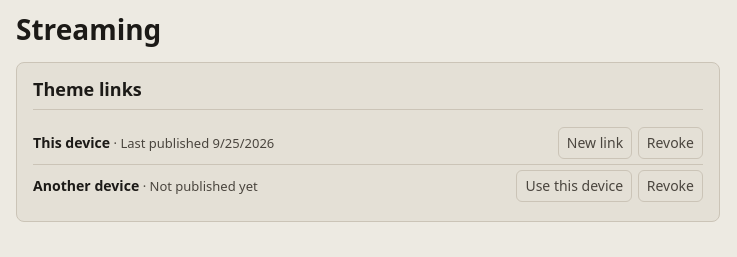
Test: the account's theme links › claims nothing that did not happen: a refused new link and a failed revoke say so plainly
Click the button "New link".
click(595, 143)  # box x1=558 y1=127 x2=632 y2=159
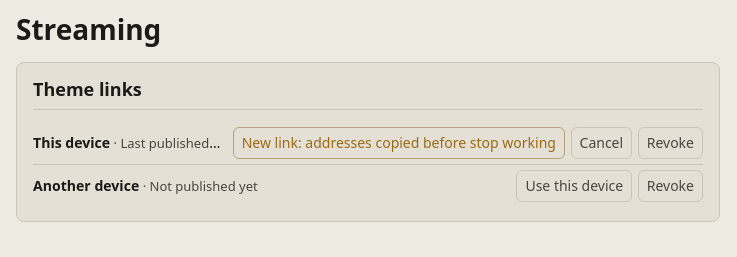
Click the button "New link: addresses copied before stop working".
click(399, 143)  # box x1=233 y1=127 x2=565 y2=159
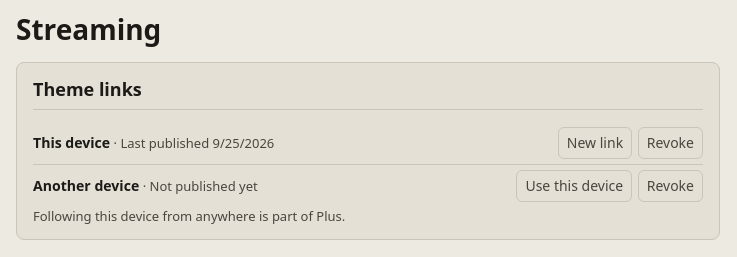
expect the text "Following this device from anywhere is part of Plus." is shown: met, box x1=33 y1=207 x2=345 y2=225
Click the button "Revoke" in the row of "Last published 9/25/2026".
click(670, 143)  # box x1=638 y1=127 x2=703 y2=159
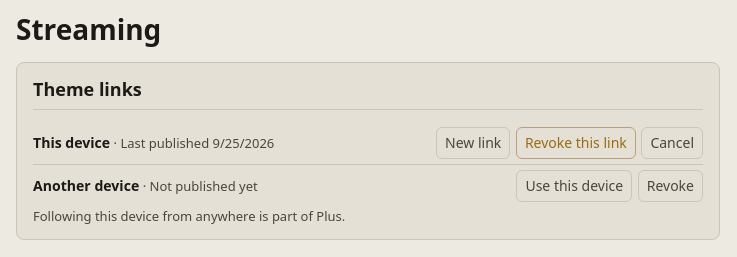
Click the button "Revoke this link".
click(576, 143)  # box x1=516 y1=127 x2=636 y2=159
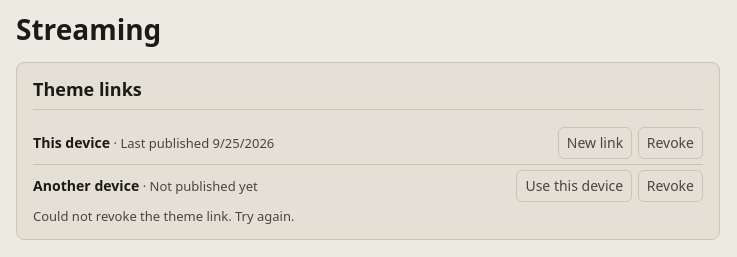
expect the text "Could not revoke the theme link. Try again." is shown: met, box x1=33 y1=207 x2=294 y2=225
